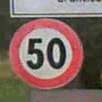limite 50: (7, 16, 84, 90)
